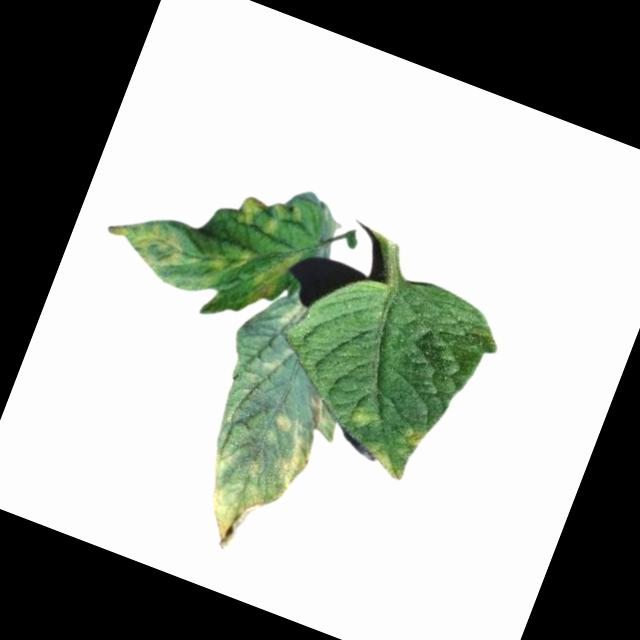Leaf_Mold: (182, 441, 279, 562), (95, 206, 194, 276), (242, 241, 300, 318), (231, 186, 303, 243), (357, 437, 413, 485), (271, 437, 315, 496), (267, 409, 296, 439), (347, 404, 376, 431), (397, 425, 425, 451)
